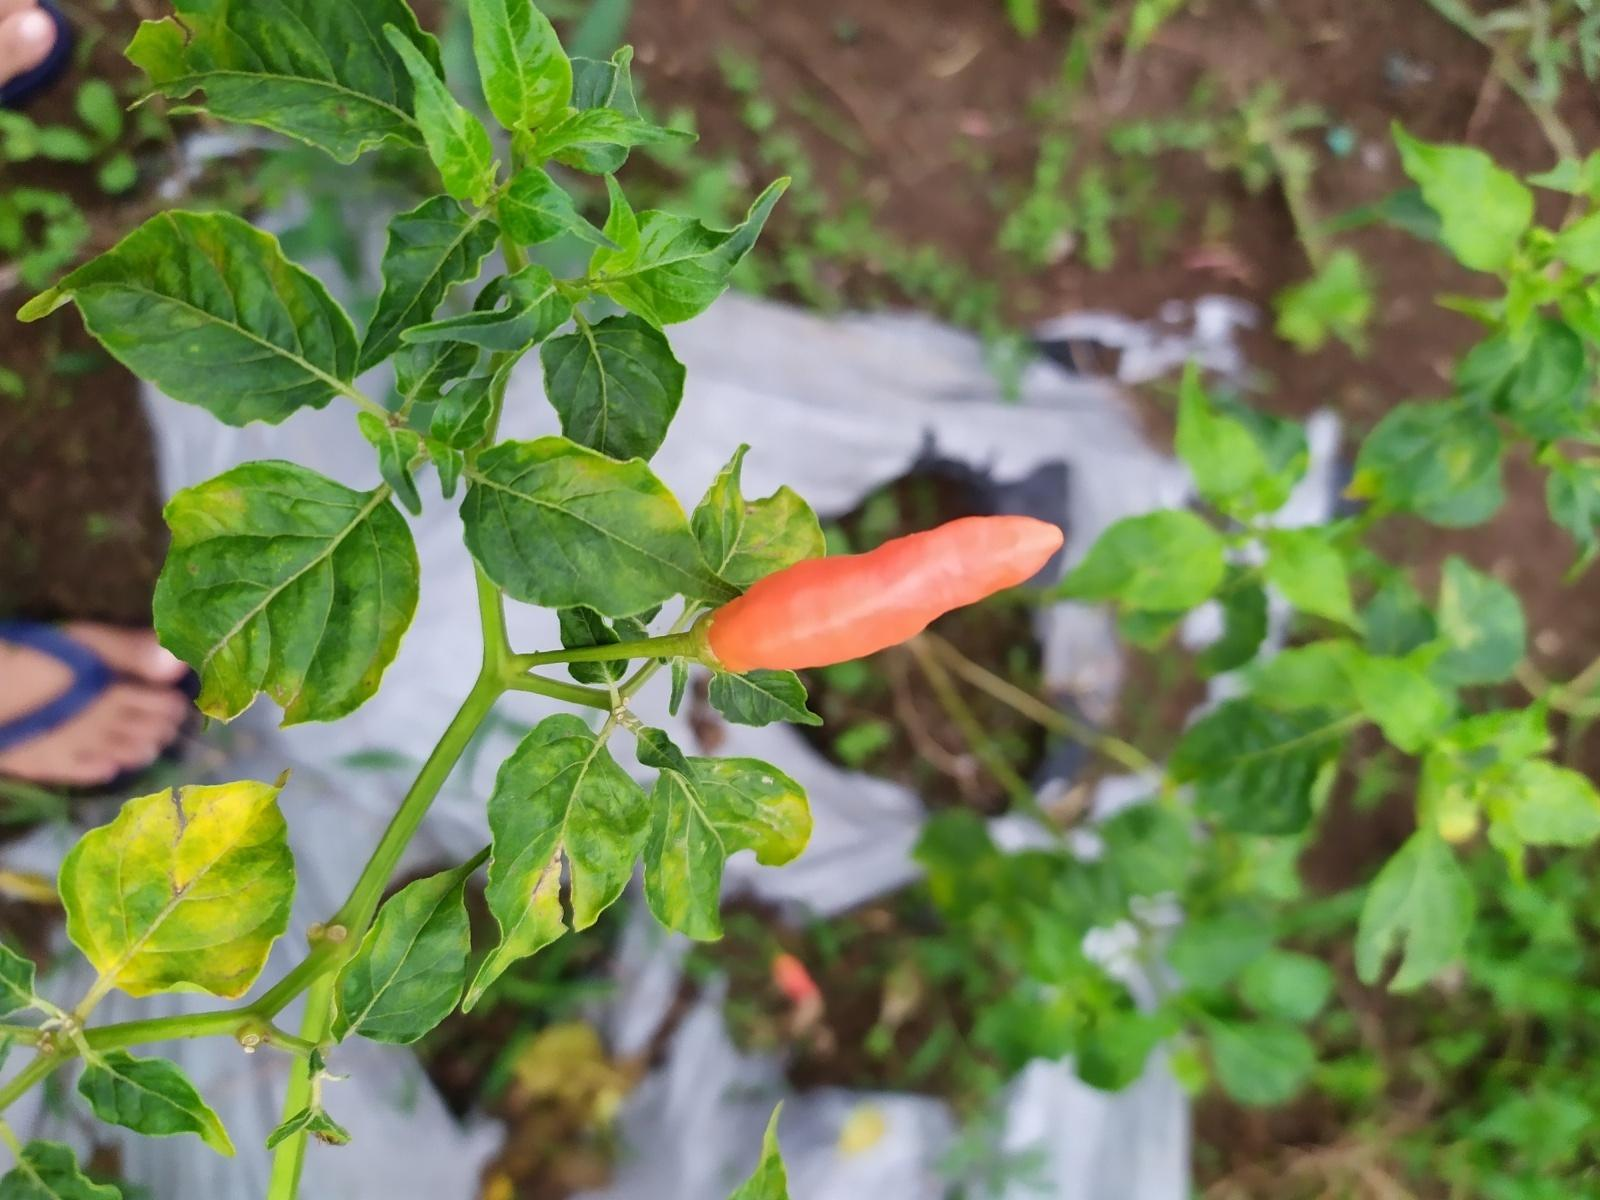cabai_normal: (702, 513, 1063, 677)
